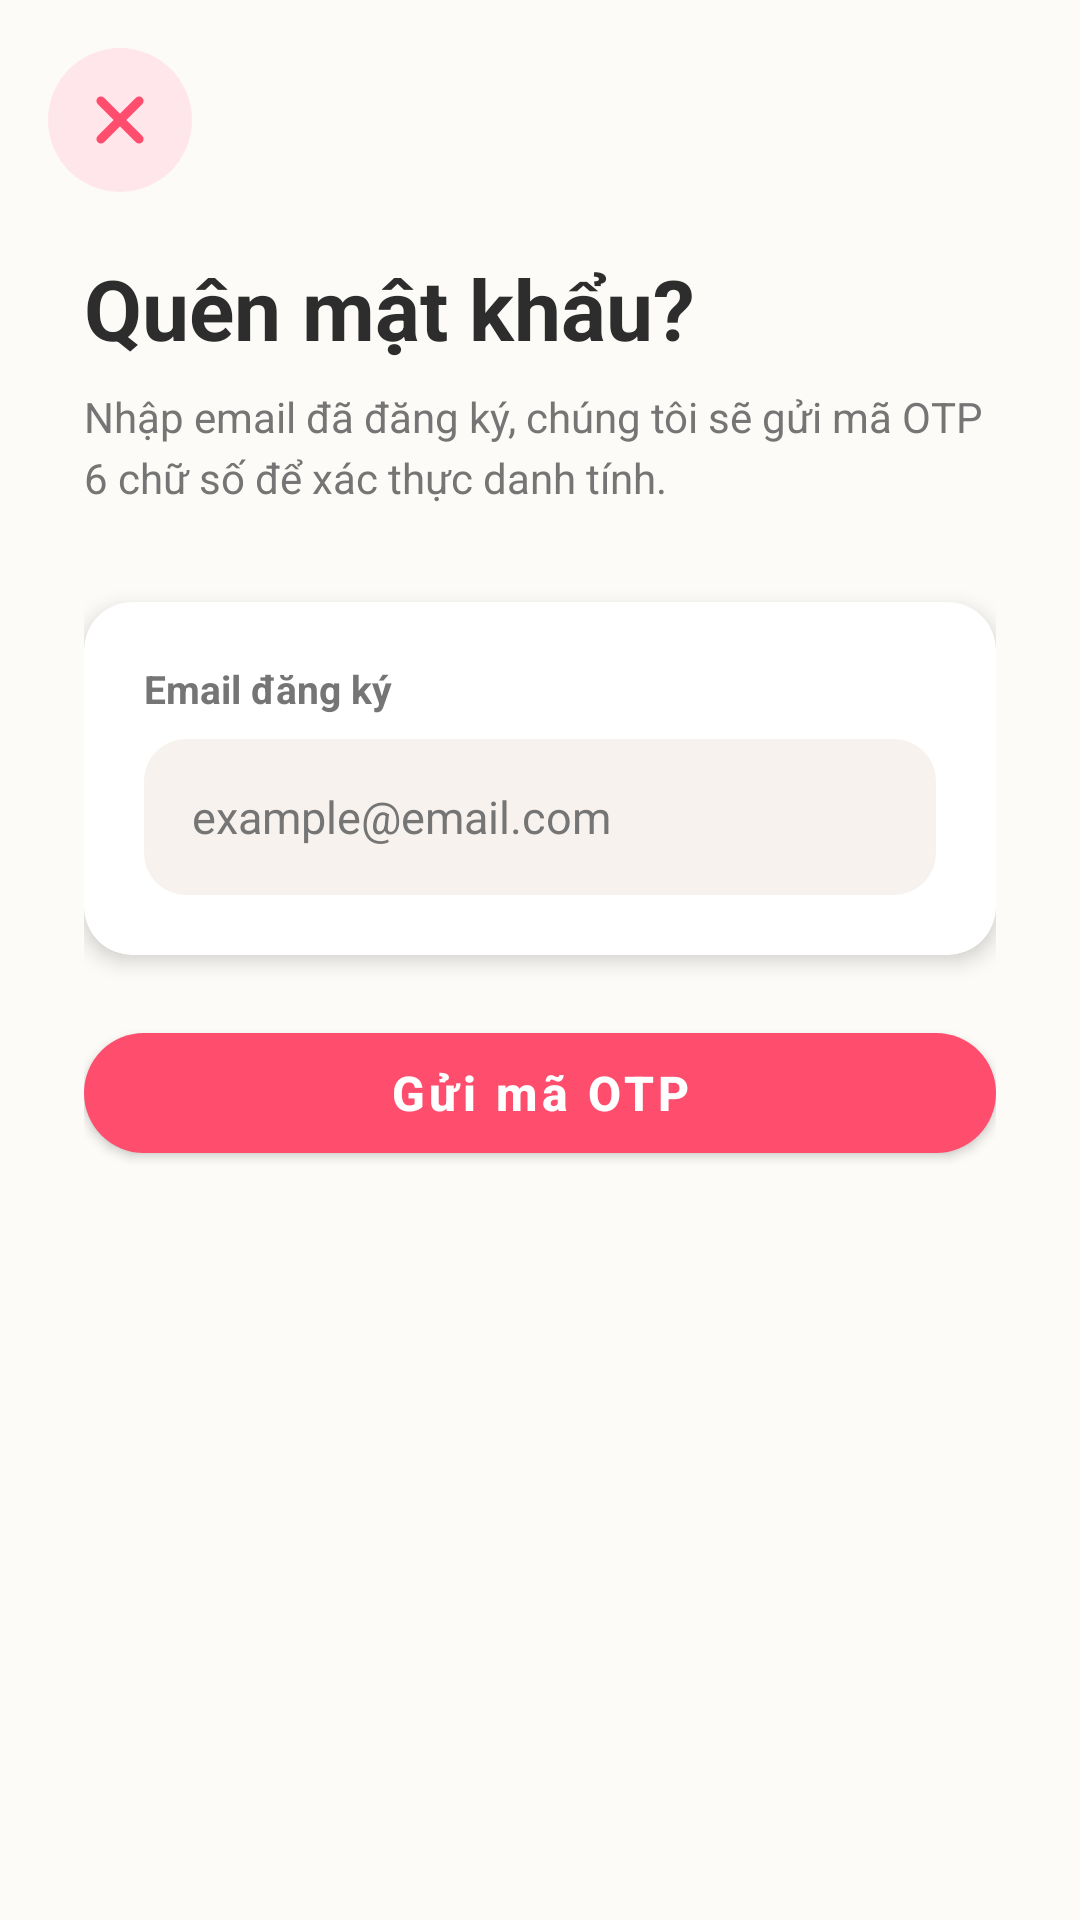

Named icons in this screenshot (1080 × 1920) and their centers, (x=x, y=y):
close: (x=120, y=120)
